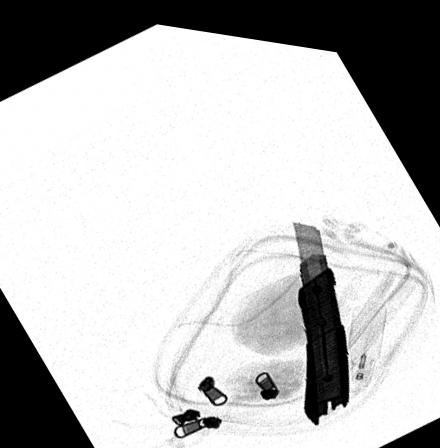Knife: (290, 210, 349, 415)
